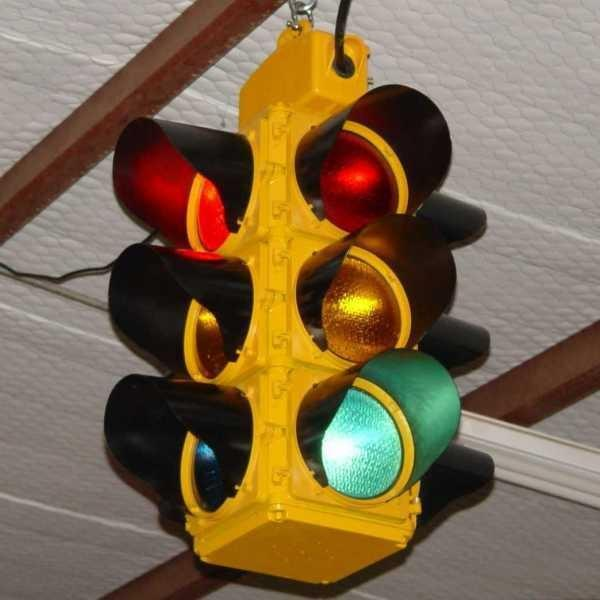red: (311, 361, 430, 515)
